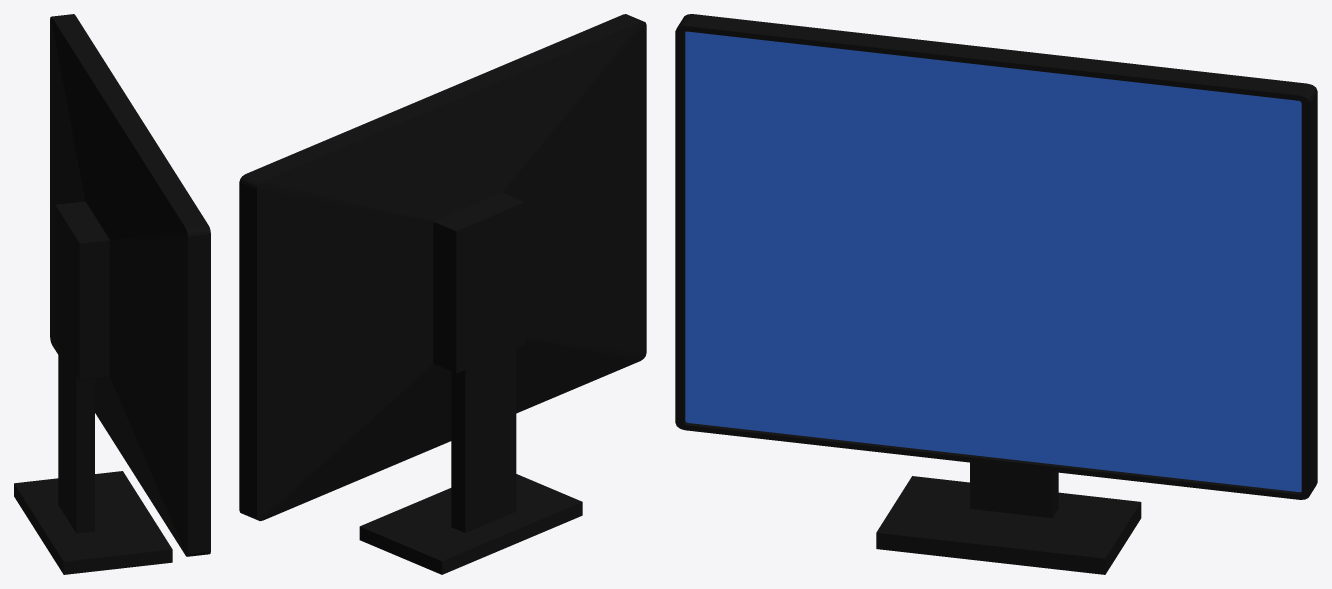
The model's file is Screen.fbx.
The picture shows the model from 3 angles, left to right: view 1: azimuth 30°, elevation 25°; view 2: azimuth 150°, elevation 25°; view 3: azimuth 270°, elevation 25°; orthographic projection. The views are drawn at different scales.
Visible parts, largest first — view 1: Screen; view 2: Screen; view 3: Screen.
Part boxes in pixels (bbox=[...]): Screen: bbox=[14, 14, 210, 574]; Screen: bbox=[239, 14, 646, 574]; Screen: bbox=[675, 14, 1317, 574].
Size of the model in its own units: 23.75 by 53.74 by 62.76.
